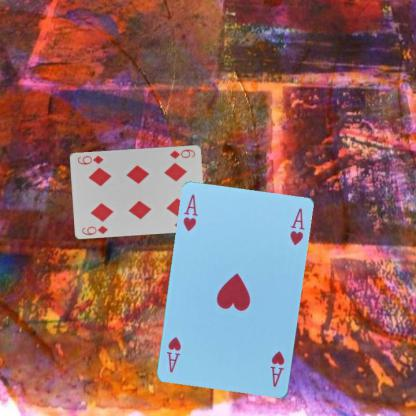6d: (167, 147, 196, 160), (80, 223, 109, 236)
Ah: (268, 348, 286, 389), (181, 192, 199, 233)
